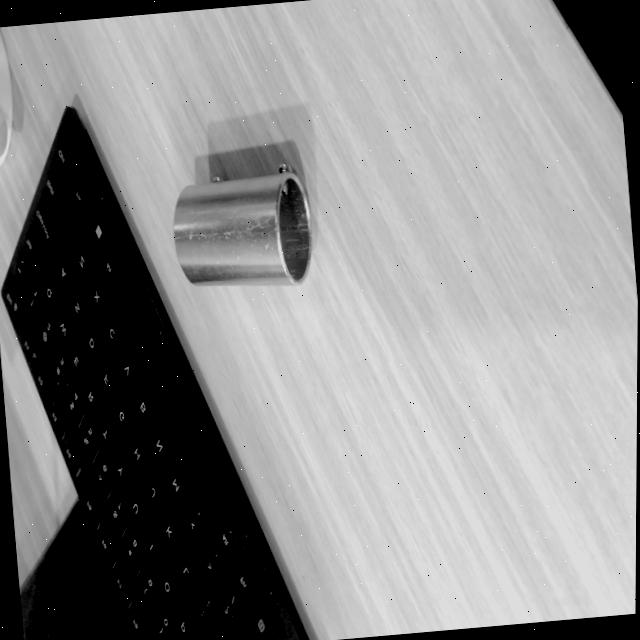Co_Lon: (169, 167, 314, 292)
